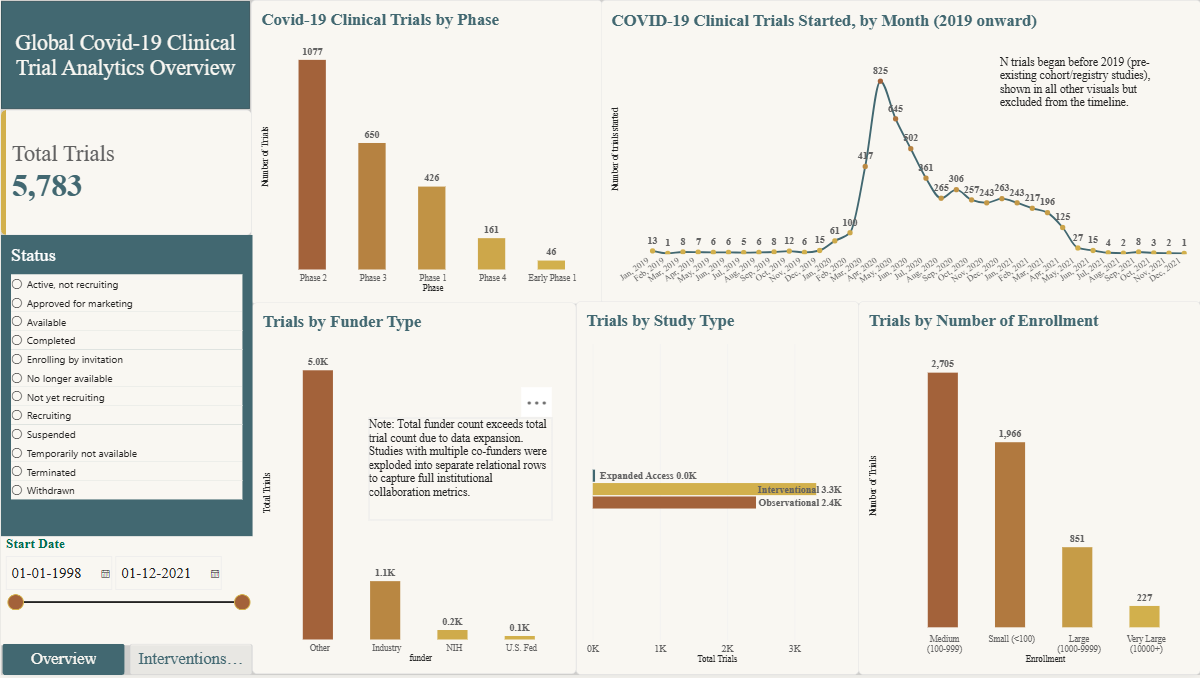

What the dashboard file says about the page in this screenshot:
{"tool":"powerbi","page":{"name":"Overview ","canvas":[1920,1080],"ordinal":0},"visuals":[{"type":"columnChart","title":"Covid-19 Clinical Trials by Phase","fields":{"Category":["phases.phase"],"Y":["CountNonNull(phases.nct_number)"]},"box":[399.5,0,562,486],"z":0},{"type":"lineChart","title":"COVID-19 Clinical Trials Started, by Month (2019 onward)","fields":{"Category":["trials.Start Month"],"Y":["covid19_clinical_trials_feature_engineered.Total Trials"]},"box":[960,0,960,486],"z":1000},{"type":"columnChart","title":"Trials by Number of Enrollment","fields":{"Category":["trials.enrollment_bucket"],"Y":["trials.Total Trials"]},"box":[1372.5,482.5,547.5,597.5],"z":2000},{"type":"clusteredBarChart","title":"Trials by Study Type","fields":{"Series":["trials.Clean_Study_Type"],"Y":["trials.Total Trials"]},"box":[920,482.5,452.5,597.5],"z":3000},{"type":"columnChart","title":"Trials by Funder Type","fields":{"Category":["funders.funder"],"Y":["trials.Total Trials"]},"box":[401.2,484.3,518,594],"z":4000},{"type":"textbox","box":[588,668,294,164],"z":5000},{"type":"textbox","box":[1598,88,260,112],"z":6000},{"type":"shape","box":[0,2,398,172],"z":7000},{"type":"cardVisual","fields":{"Data":["trials.Total Trials"]},"box":[0,175.5,401.7,200.9],"z":8000},{"type":"listSlicer","fields":{"Values":["trials.Status"]},"box":[0,376.4,402,482],"z":9000},{"type":"slicer","fields":{"Values":["trials.Start Date"]},"box":[0,857.5,402,174],"z":10000},{"type":"pageNavigator","box":[2.5,1030,400,50],"z":11000}]}

Visuals, with their boxes in screenshot pixels (x1, y1, x2, y2), scaled from the page's 1920x1080 canvas onto the 1200x678 screenshot:
"Covid-19 Clinical Trials by Phase" columnChart: rect(250, 0, 601, 305)
"COVID-19 Clinical Trials Started, by Month (2019 onward)" lineChart: rect(600, 0, 1199, 305)
"Trials by Number of Enrollment" columnChart: rect(858, 303, 1199, 677)
"Trials by Study Type" clusteredBarChart: rect(575, 303, 858, 677)
"Trials by Funder Type" columnChart: rect(251, 304, 574, 677)
textbox: rect(368, 419, 551, 522)
textbox: rect(999, 55, 1161, 126)
shape: rect(0, 1, 249, 109)
cardVisual - trials.Total Trials: rect(0, 110, 251, 236)
listSlicer - trials.Status: rect(0, 236, 251, 539)
slicer - trials.Start Date: rect(0, 538, 251, 648)
pageNavigator: rect(2, 647, 252, 677)
